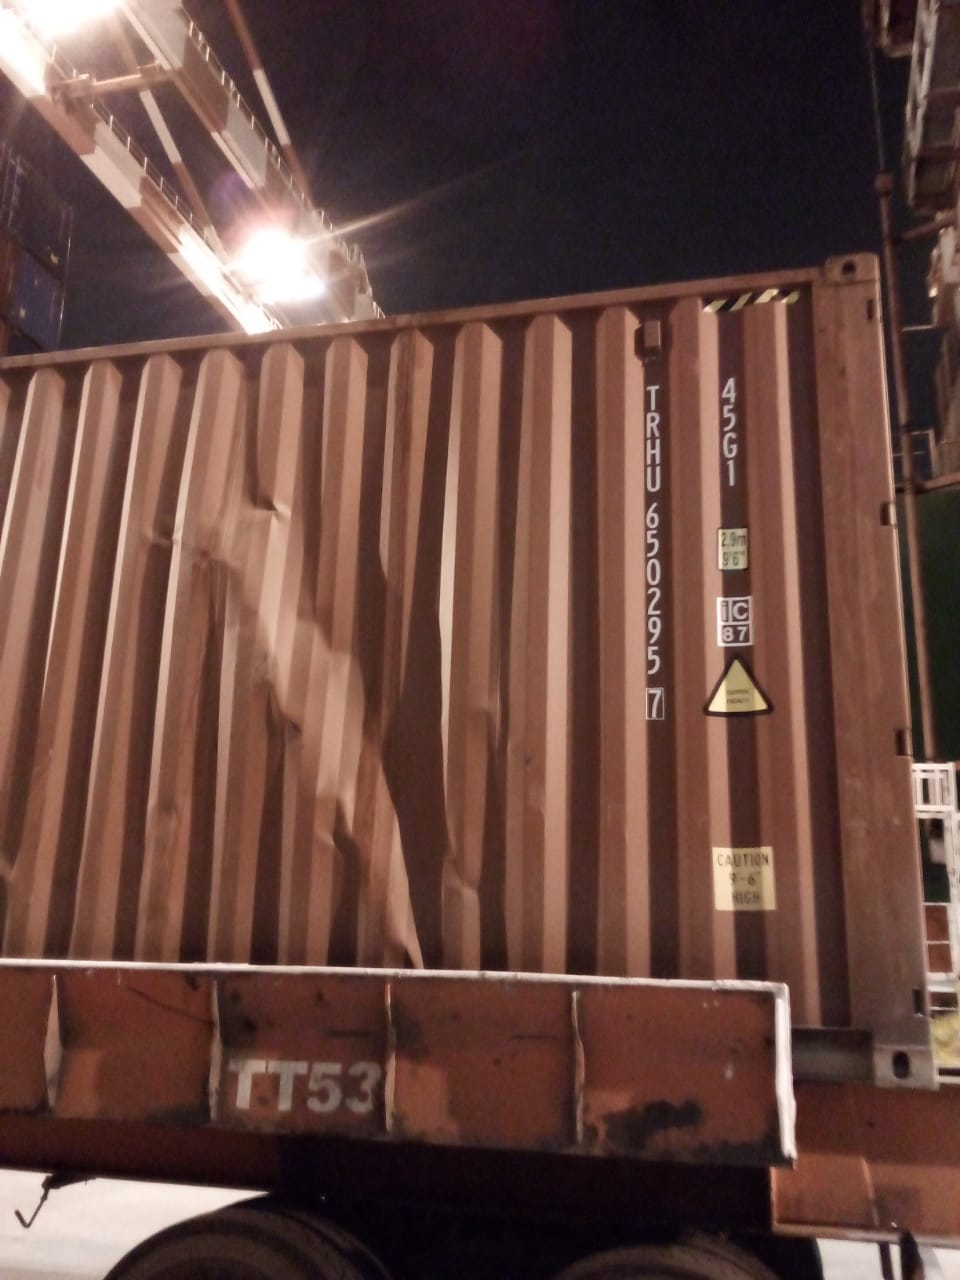bulged: (164, 469, 525, 961)
